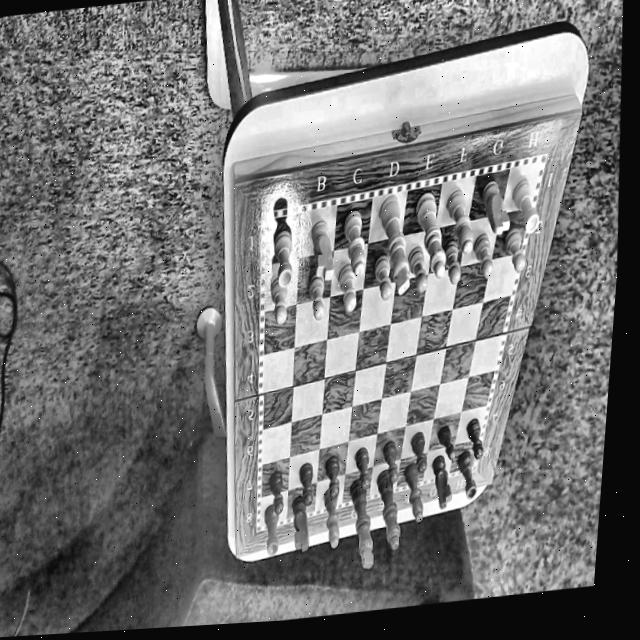chessboard: (261, 163, 539, 525)
